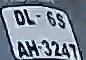2: (50, 40, 62, 57)
3: (40, 38, 52, 56)
4: (60, 42, 72, 59)
6: (46, 10, 55, 29)
7: (68, 42, 80, 59)
A: (15, 39, 28, 59)
D: (12, 11, 27, 27)
H: (24, 39, 39, 58)
L: (23, 8, 36, 25)
S: (56, 12, 66, 29)
